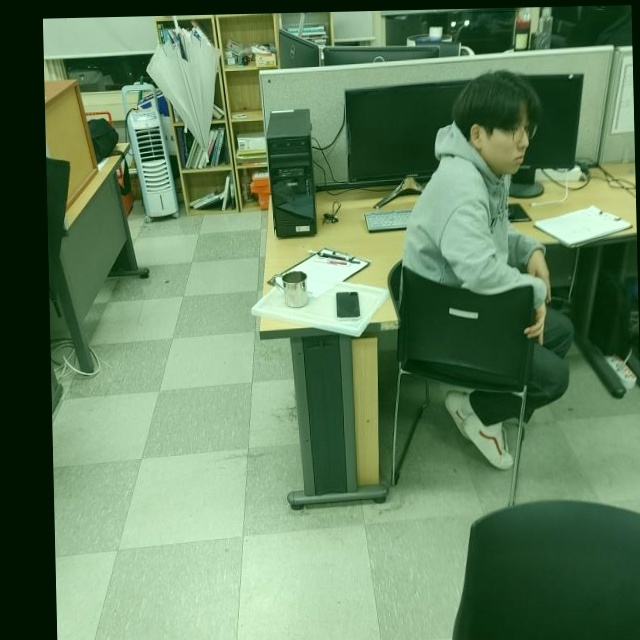cup: (271, 269, 311, 309)
phone: (336, 288, 362, 322)
